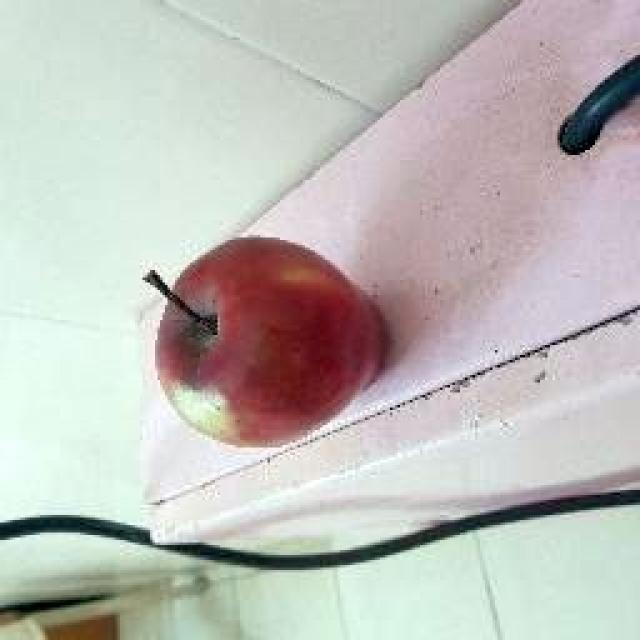Good_Apple: (145, 238, 388, 452)
